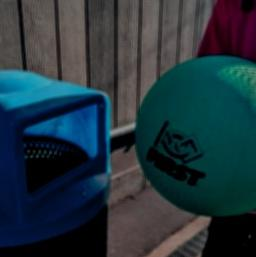algae: (131, 52, 256, 213)
